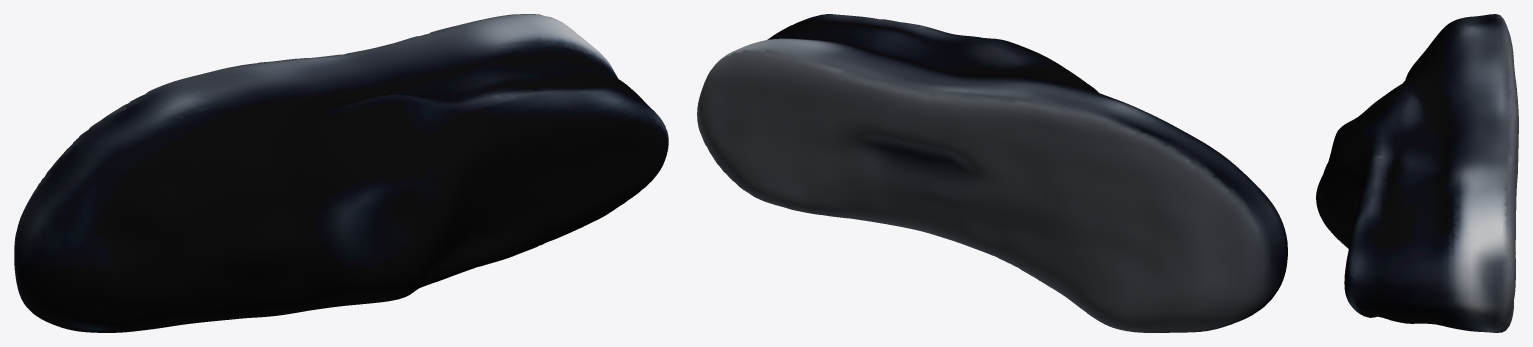
File: shoe.glb
The picture shows the model from 3 angles, left to right: view 1: azimuth 30°, elevation 25°; view 2: azimuth 150°, elevation 25°; view 3: azimuth 270°, elevation 25°; orthographic projection. The views are drawn at different scales.
Size of the model in its own units: 0.9997 by 0.3621 by 0.3416.
